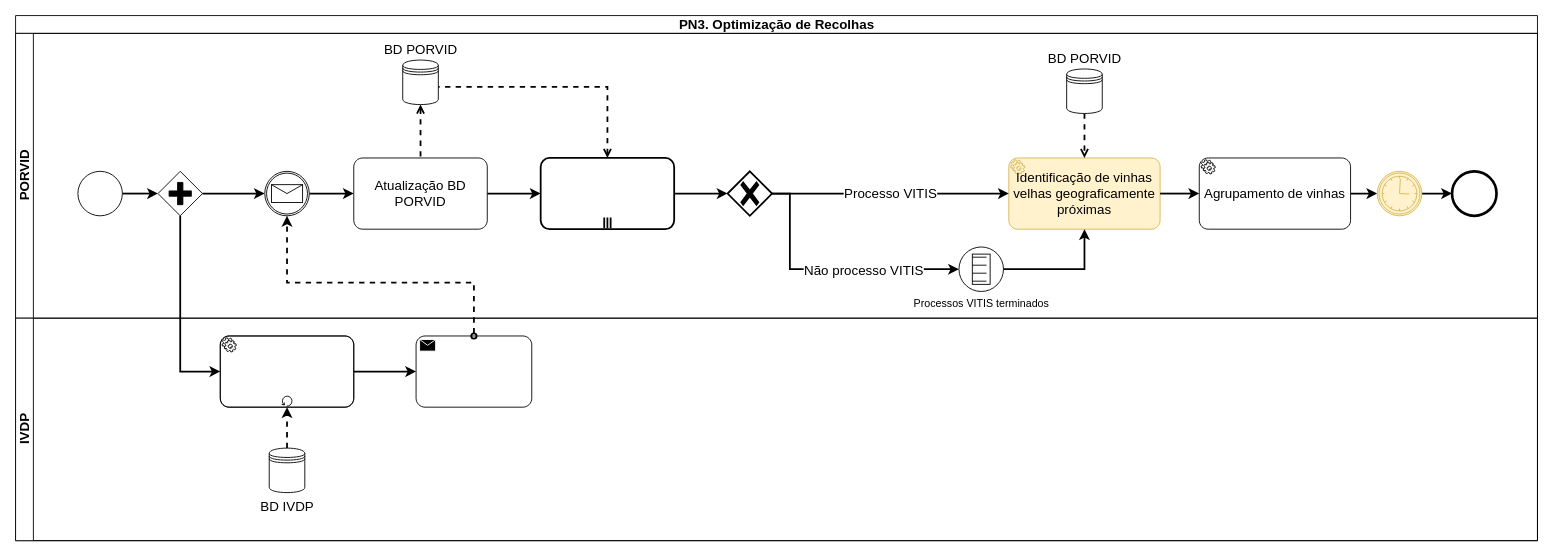
This 1553x556 diagram has some shape labels left out. The box of each missing label's shape, as (x1, y1, x2, y2) in pixels:
Atualização de "vinhas velhas" IVDP: (264, 170, 309, 216)
Final de semana: (1376, 170, 1422, 216)
Notificar PORVID: (415, 335, 532, 407)
Parcelas de interesse a prospetar: (539, 157, 675, 230)
Preparação de informação sobre parcelas verificadas: (219, 335, 354, 407)
